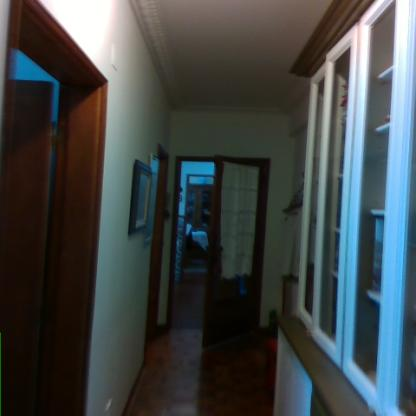semi: (167, 148, 279, 352)
